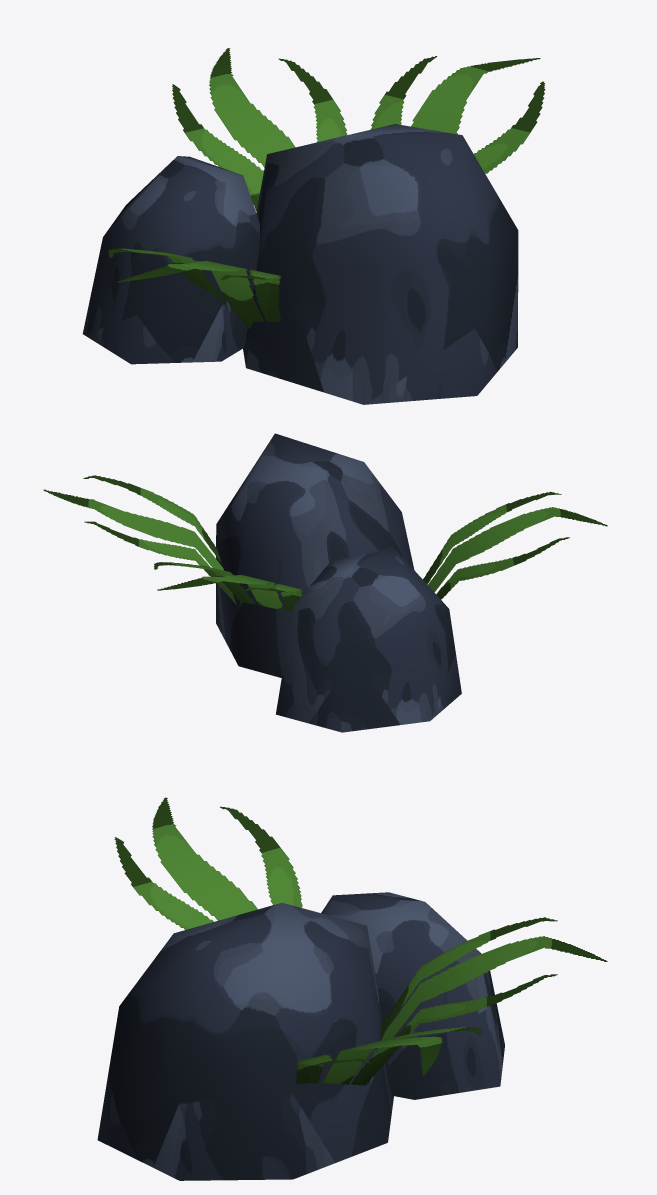
Rendered from Marble 4_preview_3DS_simplified.glb.
3 views of the same model, one above another, from view 1: azimuth 30°, elevation 25°; view 2: azimuth 150°, elevation 25°; view 3: azimuth 270°, elevation 25° (orthographic). The views are drawn at different scales.
Parts seen in each view (by area): view 1: Marine Park Empire model; view 2: Marine Park Empire model; view 3: Marine Park Empire model.
Part boxes in pixels (x1,y1,x2,y2): Marine Park Empire model: (82, 48, 545, 404); Marine Park Empire model: (43, 433, 607, 732); Marine Park Empire model: (97, 797, 607, 1180).
Size of the model in its own units: 65.17 by 18.8 by 49.56.
2 materials, 2 textured.
